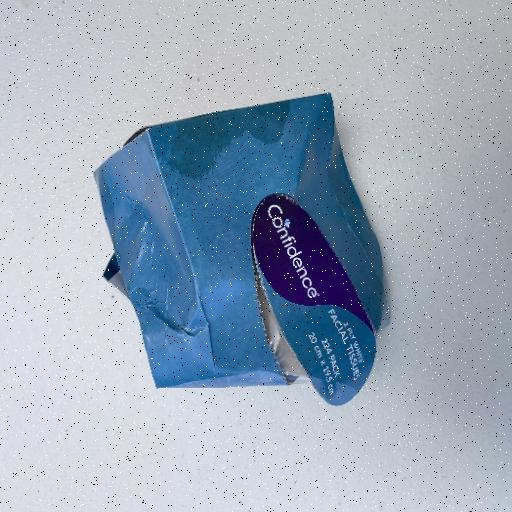Cardboard: (92, 90, 389, 404)
